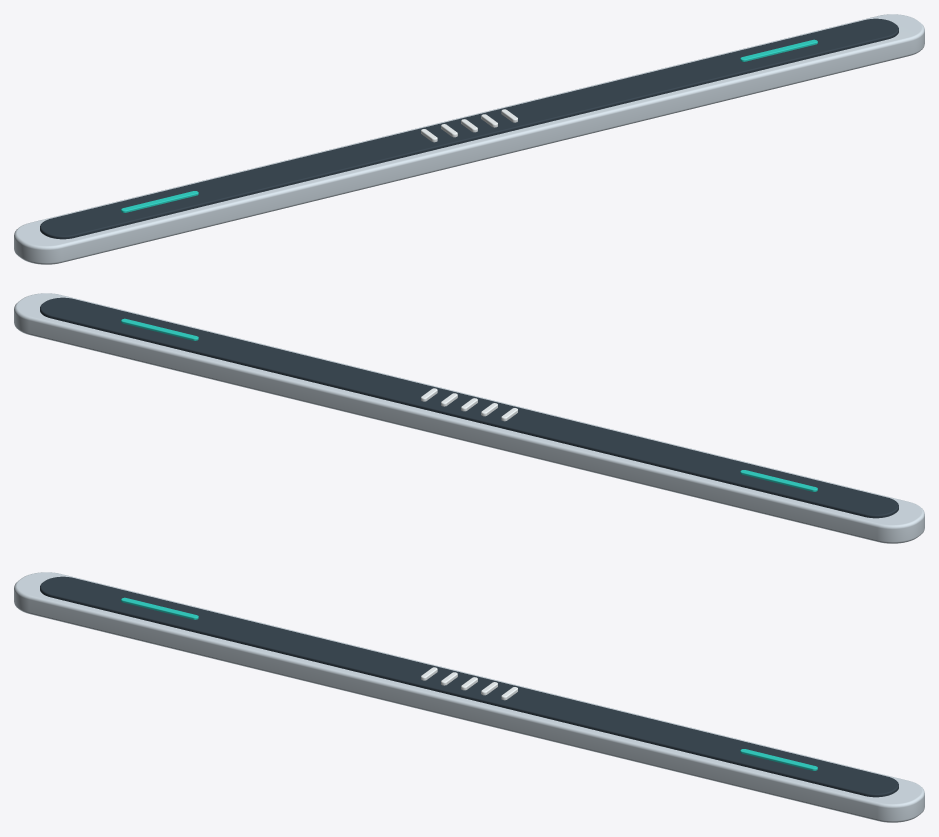
Rendered from grip.glb.
The picture shows the model from 3 angles, top to bottom: view 1: azimuth 30°, elevation 25°; view 2: azimuth 150°, elevation 25°; view 3: azimuth 330°, elevation 25°; orthographic projection.
Parts seen in each view (by area): view 1: Grip / silver shell, Grip / inset; view 2: Grip / silver shell, Grip / inset; view 3: Grip / silver shell, Grip / inset.
Part boxes in pixels (x1,y1,x2,y2): Grip / silver shell: (14, 14, 924, 264); Grip / inset: (40, 18, 898, 239); Grip / silver shell: (14, 293, 924, 543); Grip / inset: (40, 297, 898, 518); Grip / silver shell: (14, 572, 924, 822); Grip / inset: (40, 576, 898, 797).
Size of the model in its own units: 0.224 by 0.0059 by 0.014.
